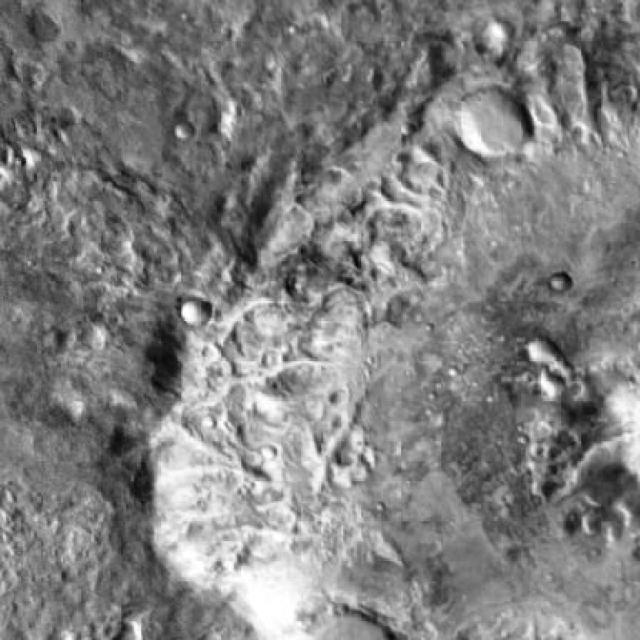crater: (149, 41, 640, 640), (442, 94, 522, 163), (180, 301, 209, 327), (173, 122, 195, 141), (552, 276, 571, 293)
